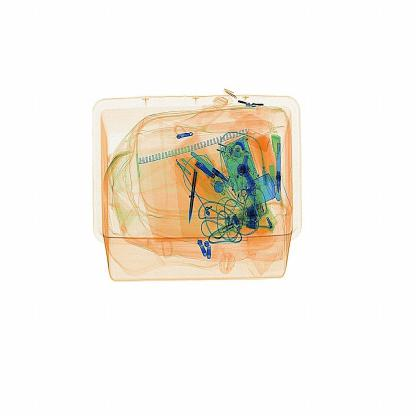gun: (179, 142, 203, 242)
